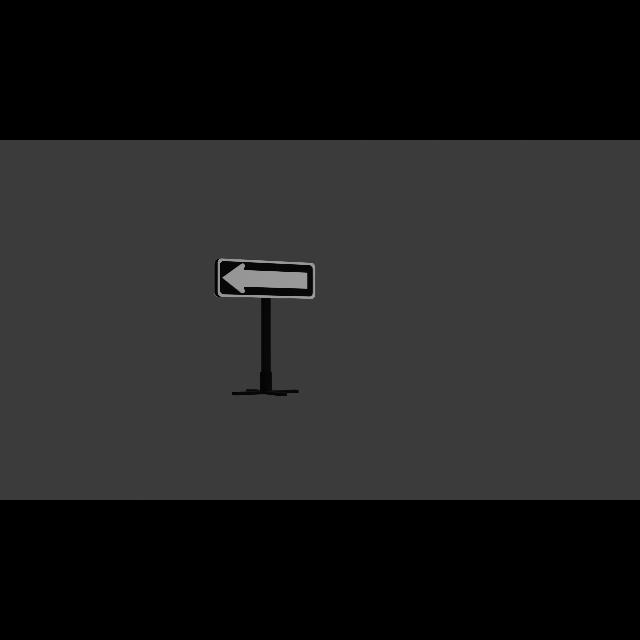sign_oneway_left: (215, 259, 317, 300)
